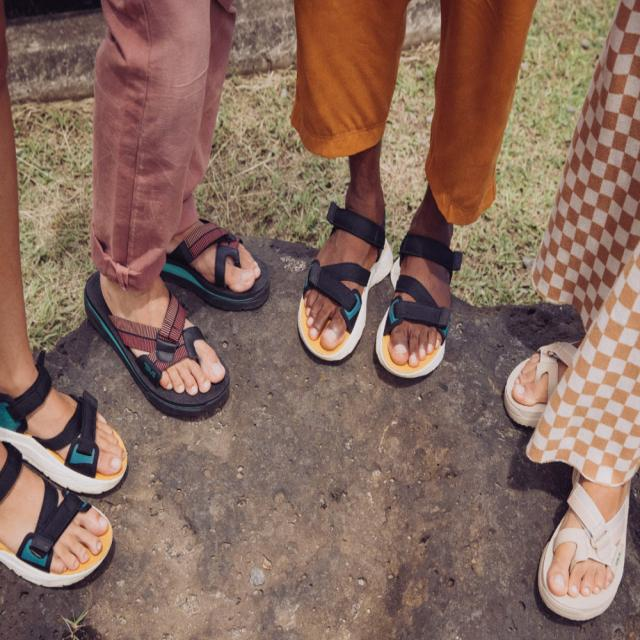Sandals: (82, 256, 228, 412), (300, 172, 384, 364), (377, 195, 462, 380)
